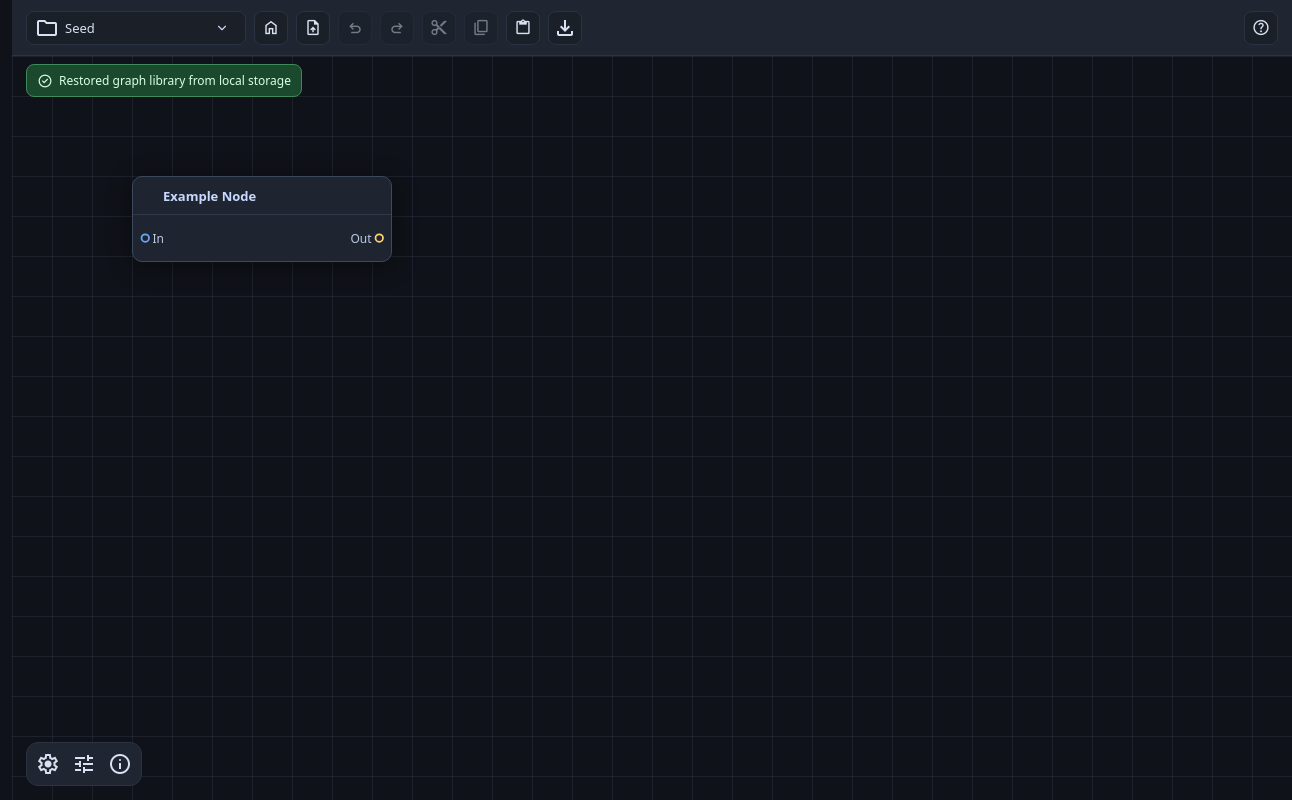
Test: Node picker › double-click creates a default node and does not open picker
Step 1. Double-click the element with class "canvas-root" → [652, 428], box left=12, top=56, right=1291, bottom=799
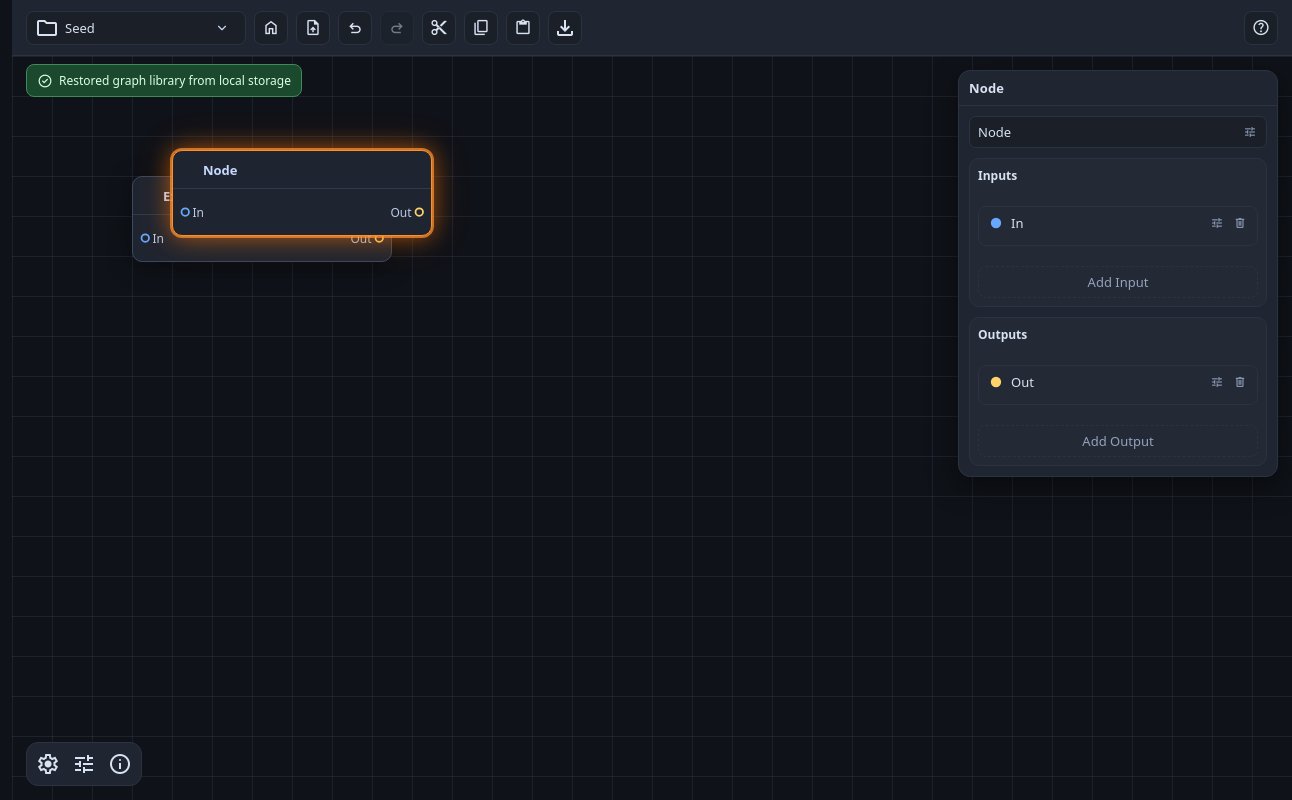
Expected: the text "Node" is shown, left=203, top=160, right=238, bottom=178
